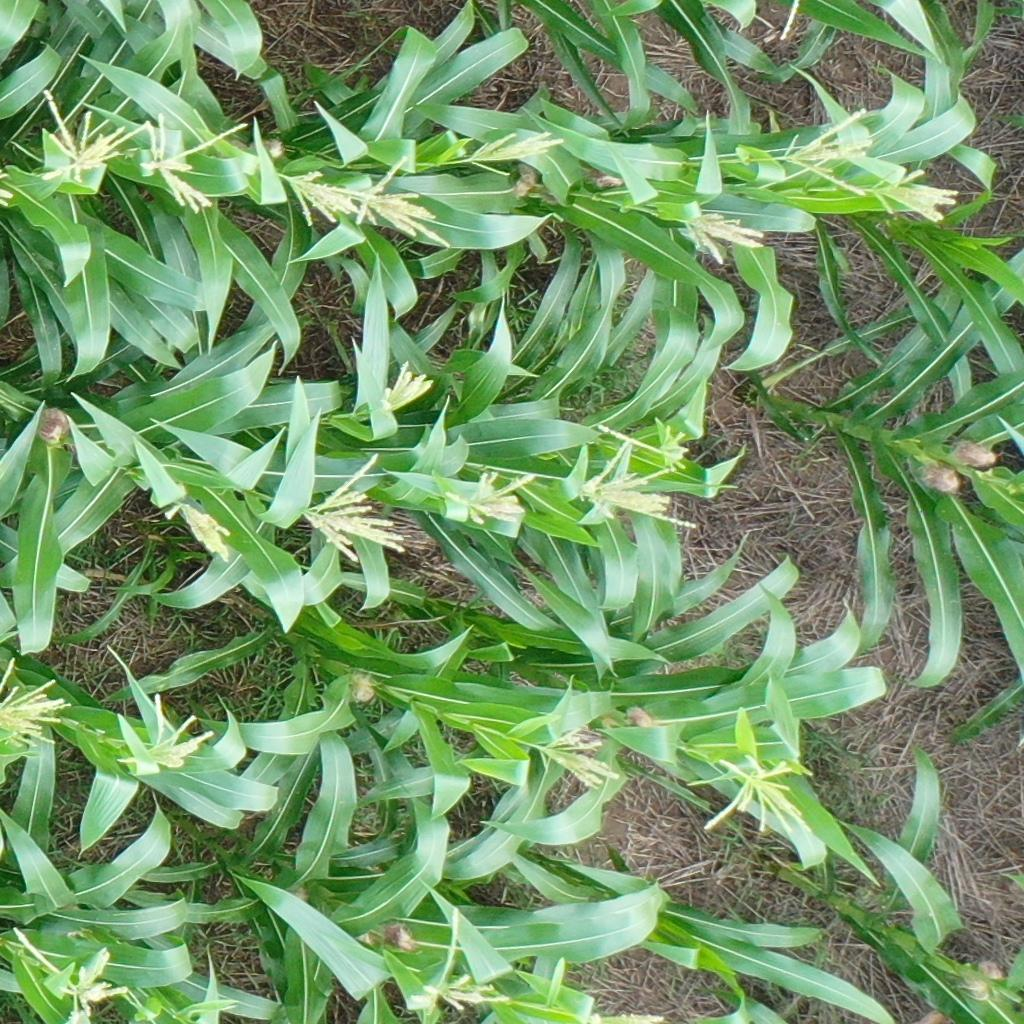Tassel: (4, 923, 128, 1024), (33, 89, 152, 187), (406, 906, 512, 1014), (583, 441, 698, 540), (139, 111, 249, 214), (306, 451, 407, 562), (684, 752, 810, 838), (356, 151, 457, 252), (779, 106, 871, 194), (1, 658, 75, 751), (284, 167, 376, 230), (140, 689, 213, 768), (445, 468, 537, 527), (596, 413, 692, 468), (866, 167, 955, 223), (681, 208, 766, 265), (166, 498, 238, 565), (465, 132, 568, 178), (536, 731, 615, 789), (382, 361, 427, 411), (581, 1011, 667, 1024)
